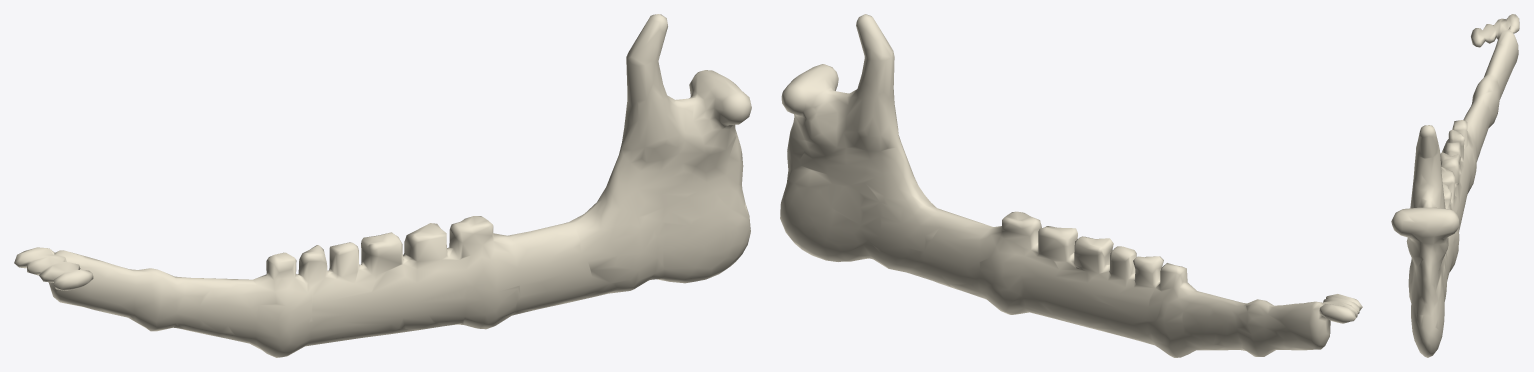
File: mandible_l.glb
3 renders of one model, left to right at view 1: azimuth 30°, elevation 25°; view 2: azimuth 150°, elevation 25°; view 3: azimuth 270°, elevation 25°, orthographic. The views are drawn at different scales.
Parts seen in each view (by area): view 1: geometry_0; view 2: geometry_0; view 3: geometry_0.
Part boxes in pixels (left/top/right/bottom): geometry_0: left=14, top=14, right=751, bottom=357; geometry_0: left=780, top=14, right=1362, bottom=357; geometry_0: left=1391, top=14, right=1519, bottom=357.
Size of the model in its own units: 0.8835 by 0.3459 by 0.1885.
